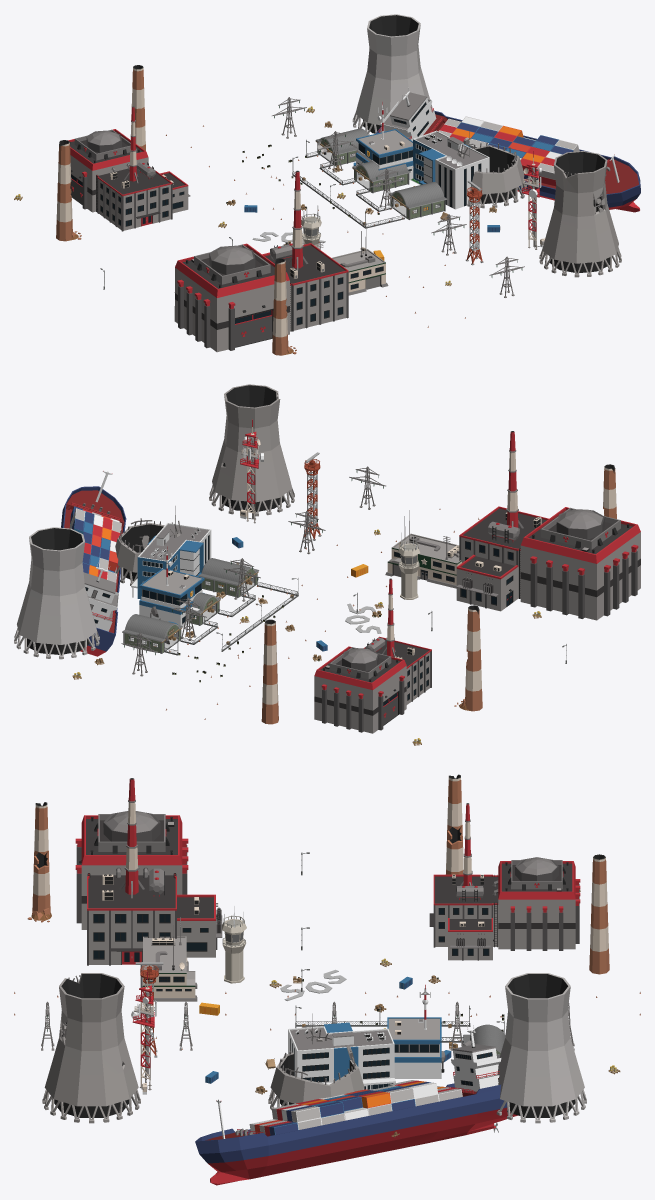
The model's file is Airports_3.glb.
3 renders of one model, top to bottom at view 1: azimuth 30°, elevation 25°; view 2: azimuth 150°, elevation 25°; view 3: azimuth 270°, elevation 25°, orthographic. The views are drawn at different scales.
Parts seen in each view (by area): view 1: A_NuclearPlant__0, A_PlaneCrashSite__2, A_Prison__0, A_ResearchFacility__0, A_NuclearPlant__0_1, A_RunwayGenerator__7, A_RunwayGenerator__5, A_RunwayGenerator__4, A_RunwayGenerator__6, A_RunwayGenerator__6_1; view 2: A_NuclearPlant__0, A_PlaneCrashSite__2, A_Prison__0, A_ResearchFacility__0, A_NuclearPlant__0_1, A_RunwayGenerator__7, A_RunwayGenerator__5, A_RunwayGenerator__4, A_RunwayGenerator__1, A_RunwayGenerator__6, A_RunwayGenerator__6_1; view 3: A_NuclearPlant__0, A_PlaneCrashSite__2, A_Prison__0, A_ResearchFacility__0, A_NuclearPlant__0_1, A_RunwayGenerator__1, A_RunwayGenerator__7, A_RunwayGenerator__4, A_Outpost__2.
Part boxes in pixels (bbox=[...]): A_NuclearPlant__0: bbox=[56, 14, 621, 355]; A_PlaneCrashSite__2: bbox=[244, 87, 640, 260]; A_Prison__0: bbox=[317, 102, 545, 295]; A_ResearchFacility__0: bbox=[317, 130, 489, 209]; A_NuclearPlant__0_1: bbox=[70, 106, 190, 230]; A_RunwayGenerator__7: bbox=[316, 128, 446, 207]; A_RunwayGenerator__5: bbox=[318, 138, 444, 218]; A_RunwayGenerator__4: bbox=[465, 180, 483, 265]; A_RunwayGenerator__6: bbox=[315, 131, 444, 219]; A_RunwayGenerator__6_1: bbox=[293, 171, 447, 228]; A_NuclearPlant__0: bbox=[14, 384, 640, 733]; A_PlaneCrashSite__2: bbox=[61, 471, 368, 656]; A_Prison__0: bbox=[139, 419, 461, 627]; A_ResearchFacility__0: bbox=[131, 506, 211, 644]; A_NuclearPlant__0_1: bbox=[335, 578, 430, 730]; A_RunwayGenerator__7: bbox=[123, 558, 257, 640]; A_RunwayGenerator__5: bbox=[125, 569, 256, 652]; A_RunwayGenerator__4: bbox=[304, 452, 321, 540]; A_RunwayGenerator__1: bbox=[398, 543, 420, 599]; A_RunwayGenerator__6: bbox=[122, 573, 256, 653]; A_RunwayGenerator__6_1: bbox=[198, 560, 297, 651]; A_NuclearPlant__0: bbox=[27, 774, 609, 1123]; A_PlaneCrashSite__2: bbox=[195, 976, 517, 1185]; A_Prison__0: bbox=[131, 917, 441, 1094]; A_ResearchFacility__0: bbox=[288, 1013, 471, 1089]; A_NuclearPlant__0_1: bbox=[429, 803, 563, 960]; A_RunwayGenerator__1: bbox=[222, 919, 246, 983]; A_RunwayGenerator__7: bbox=[302, 1024, 505, 1051]; A_RunwayGenerator__4: bbox=[135, 962, 163, 1057]; A_Outpost__2: bbox=[280, 969, 346, 1000].
Bounding box in the file's own units: 553 × 174 × 500.
Materials: 33 (26 with a texture image).
